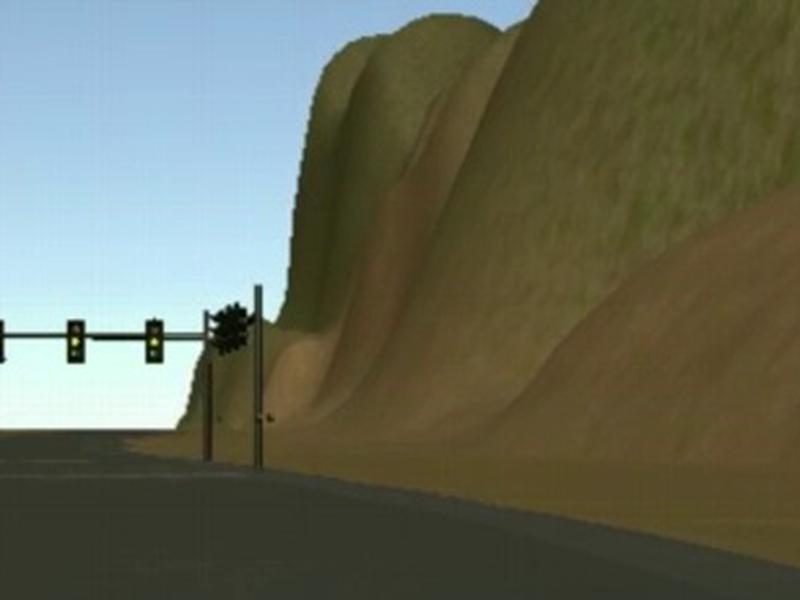Yellow: (67, 319, 85, 364), (147, 319, 164, 363)
